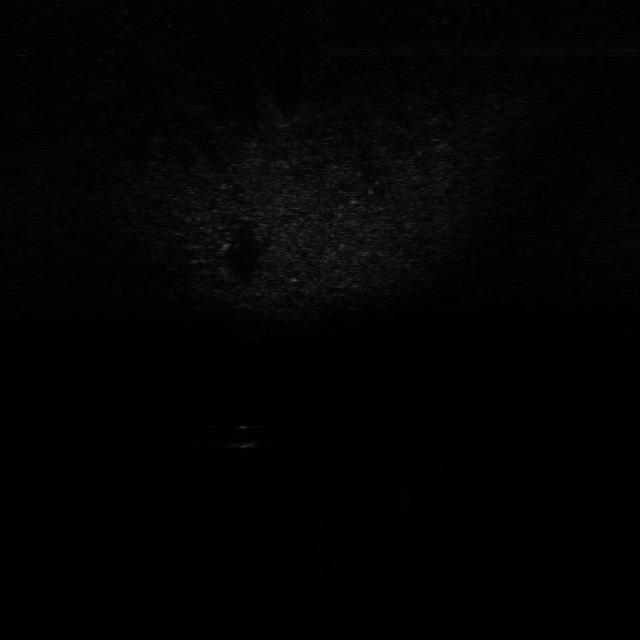ball: (226, 421, 263, 450)
